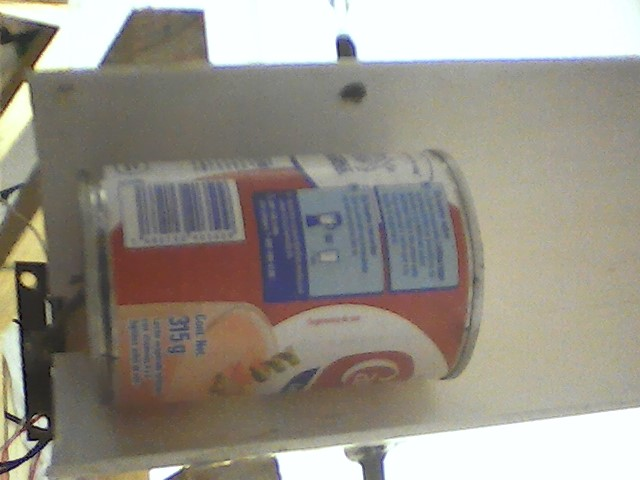lata: (69, 146, 492, 416)
